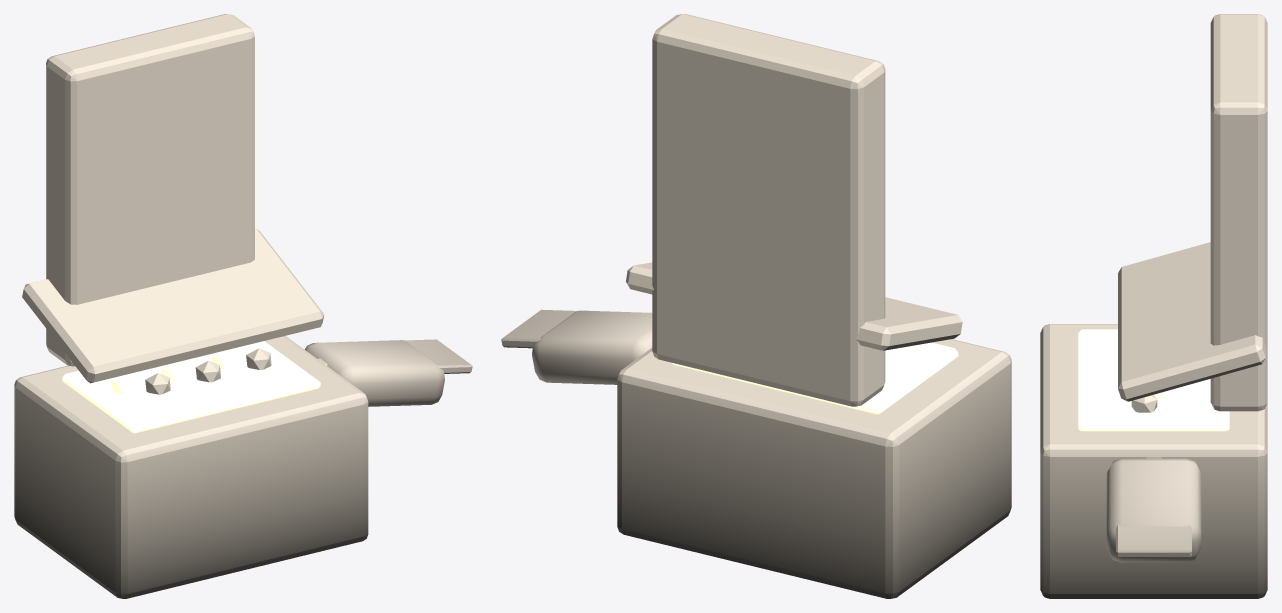
Rendered from SM_VK_Prop_Forge.fbx.
3 renders of one model, left to right at view 1: azimuth 30°, elevation 25°; view 2: azimuth 150°, elevation 25°; view 3: azimuth 270°, elevation 25°, orthographic. The views are drawn at different scales.
Visible parts, largest first — view 1: SM_VK_Prop_Forge.001; view 2: SM_VK_Prop_Forge.001; view 3: SM_VK_Prop_Forge.001.
Boxes of the visible parts, x1=… form: SM_VK_Prop_Forge.001: x1=14, y1=14, x2=472, y2=598; SM_VK_Prop_Forge.001: x1=501, y1=14, x2=1011, y2=598; SM_VK_Prop_Forge.001: x1=1040, y1=14, x2=1267, y2=598.
Size of the model in its own units: 2.47 by 2.8 by 1.2.
